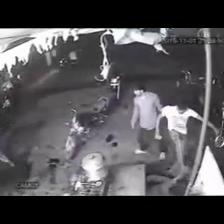person: (156, 98, 202, 179), (131, 84, 162, 156)
